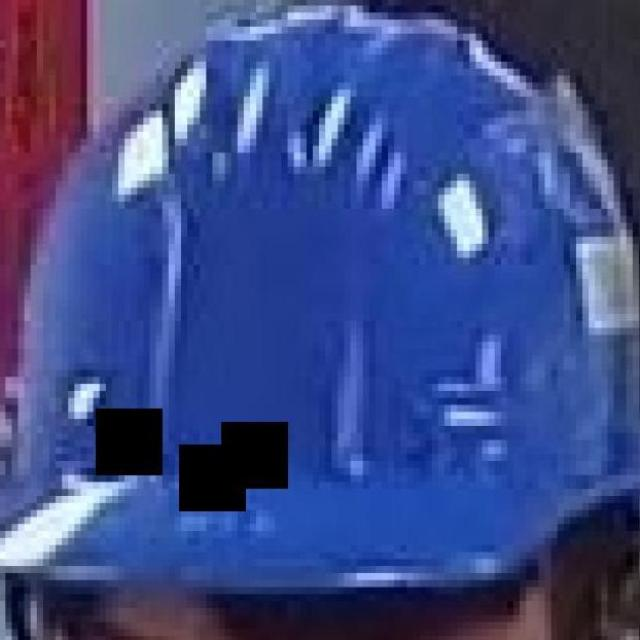blue helmet: (17, 17, 638, 593)
